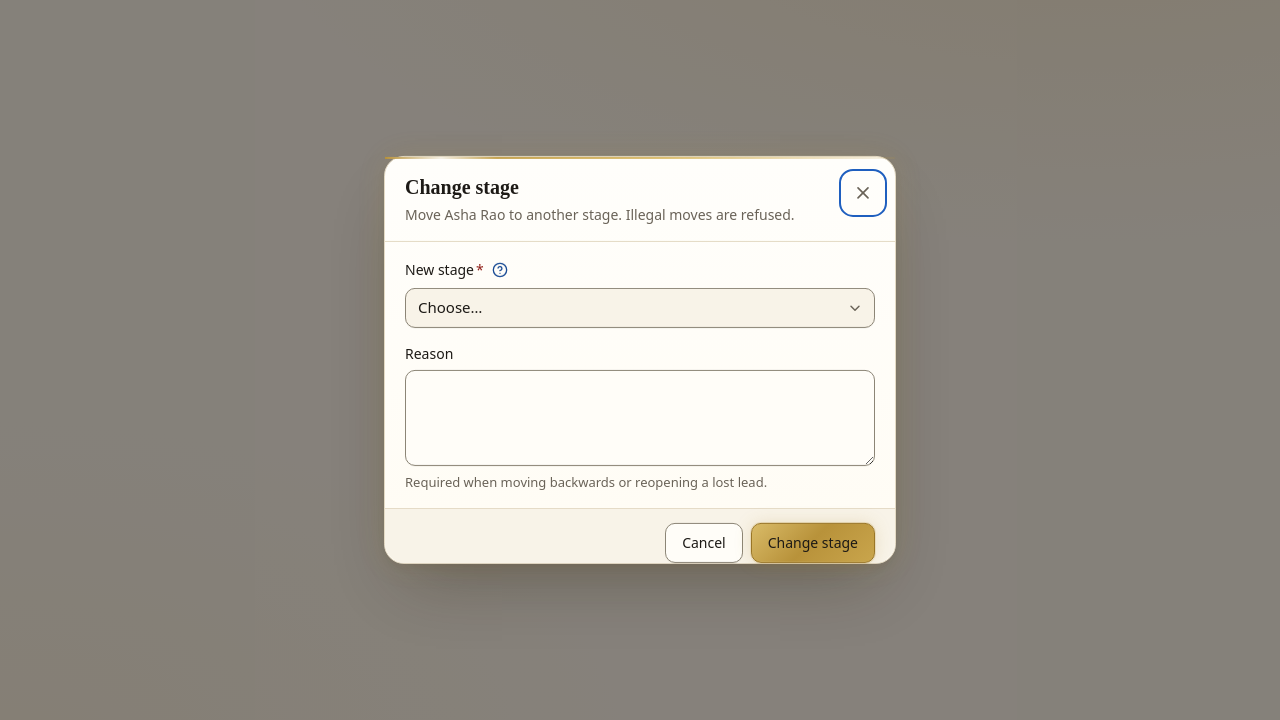
Test: StatusBody › shows the API refusal for an illegal transition
Select "Qualified" in the dropdown labelled "New stage*". click: [640, 308]
box: [405,288,875,328]
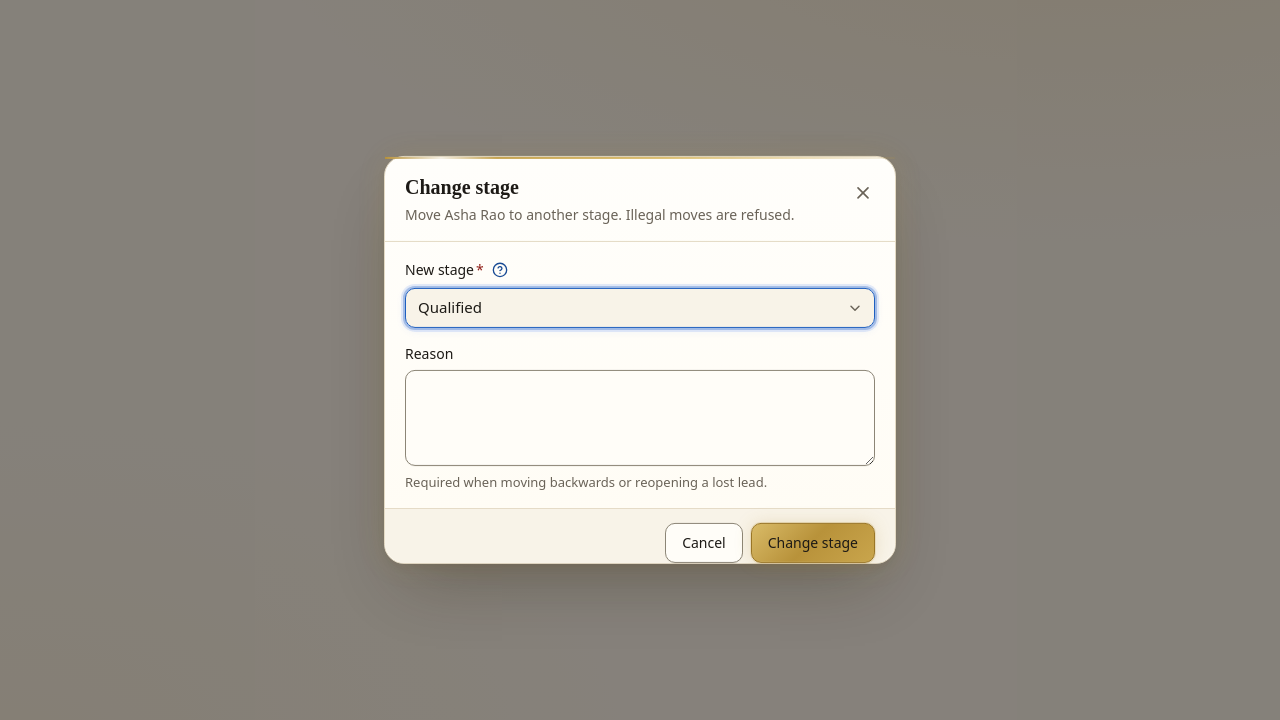
Click the button "Change stage". click: [813, 543]
box: [751,523,875,563]
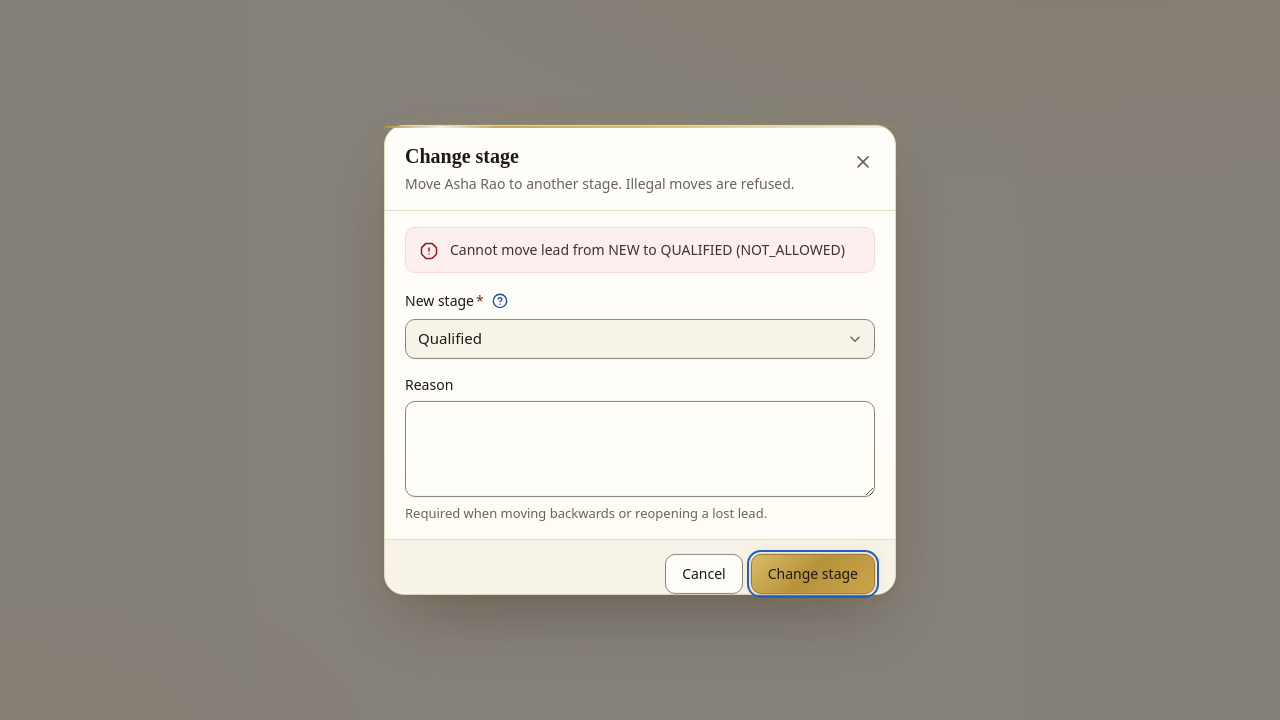
Check: the text "Cannot move lead from NEW to QUALIFIED (NOT_ALLOWED)" is shown, box [450,240,860,260]
